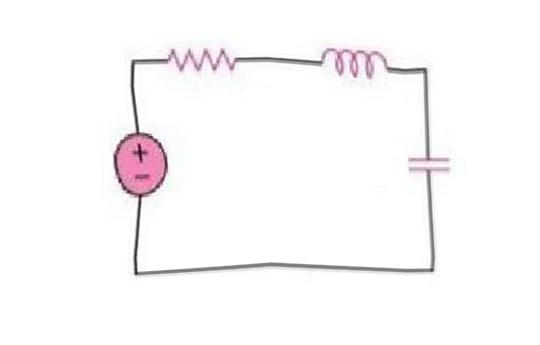Battery: (98, 123, 175, 206)
